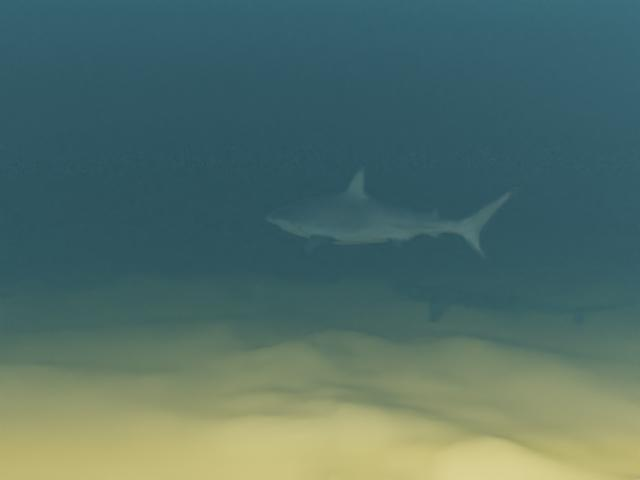Carribean Shark.001: (265, 165, 520, 260)
